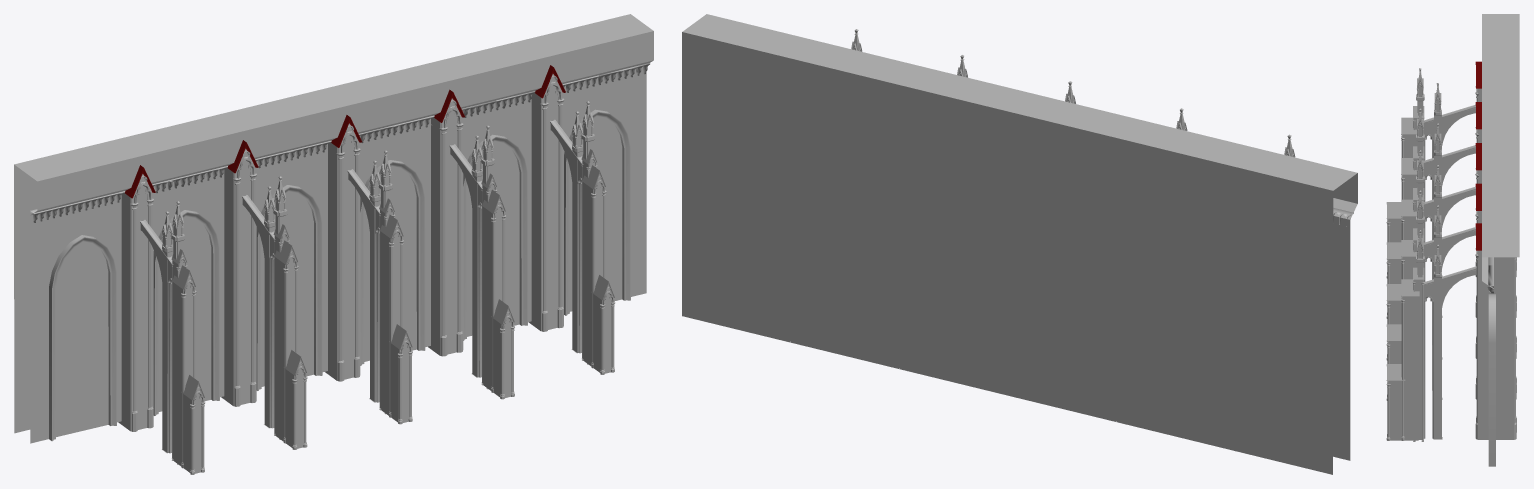
File: wall_005.glb
The picture shows the model from 3 angles, left to right: view 1: azimuth 30°, elevation 25°; view 2: azimuth 150°, elevation 25°; view 3: azimuth 270°, elevation 25°; orthographic projection. The views are drawn at different scales.
Parts seen in each view (by area): view 1: wall_005; view 2: wall_005; view 3: wall_005.
Part boxes in pixels (bbox=[...]): wall_005: bbox=[14, 14, 653, 474]; wall_005: bbox=[682, 14, 1357, 474]; wall_005: bbox=[1386, 14, 1519, 466].
Bounding box in the file's own units: 7.5 × 3.22 × 1.74.
